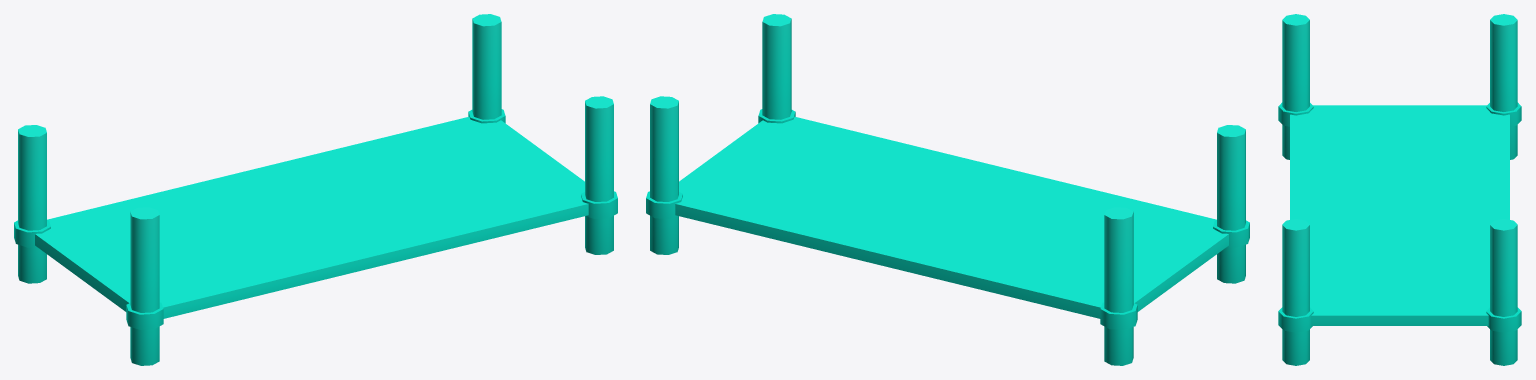
Rendered from Table_Leg_01_D_C05.fbx.
The picture shows the model from 3 angles, left to right: view 1: azimuth 30°, elevation 25°; view 2: azimuth 150°, elevation 25°; view 3: azimuth 270°, elevation 25°; orthographic projection. The views are drawn at different scales.
Visible parts, largest first — view 1: Table_Leg_01_D_C05; view 2: Table_Leg_01_D_C05; view 3: Table_Leg_01_D_C05.
Part boxes in pixels (x1=…): Table_Leg_01_D_C05: x1=14, y1=14, x2=617, y2=365; Table_Leg_01_D_C05: x1=646, y1=14, x2=1249, y2=365; Table_Leg_01_D_C05: x1=1278, y1=14, x2=1521, y2=365.
Bounding box in the file's own units: 188 × 53.91 × 87.78.
